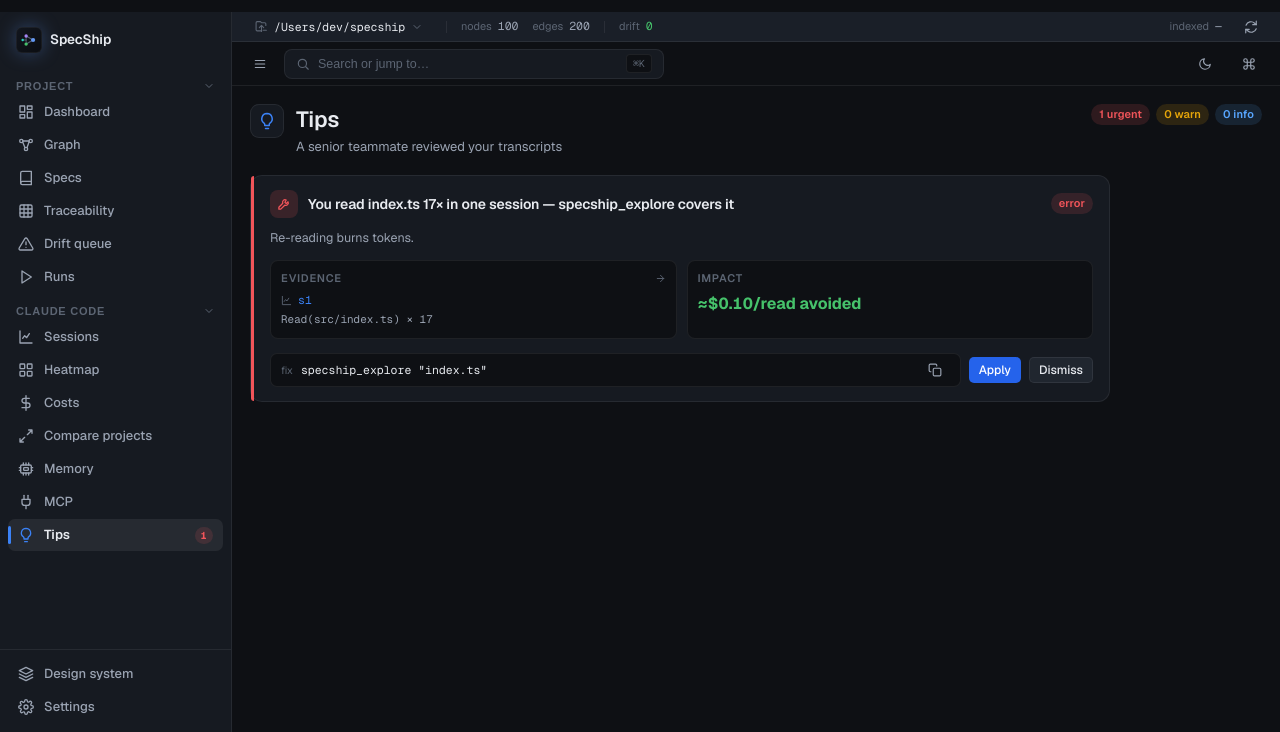
Test: TipsPage via App (REQ-DESKTOP-024) › A4: Dismiss POSTs the state, removes the card AND clears the sidebar badge
Check: the text "You read index.ts 17× in one session — specship_explore covers it" is shown, box [308,195,734,213]
Check: the text "1" is shown, box [194,526,213,544]
Step 1. Click the button "Dismiss" → (1061, 370), box [1029,357,1093,383]
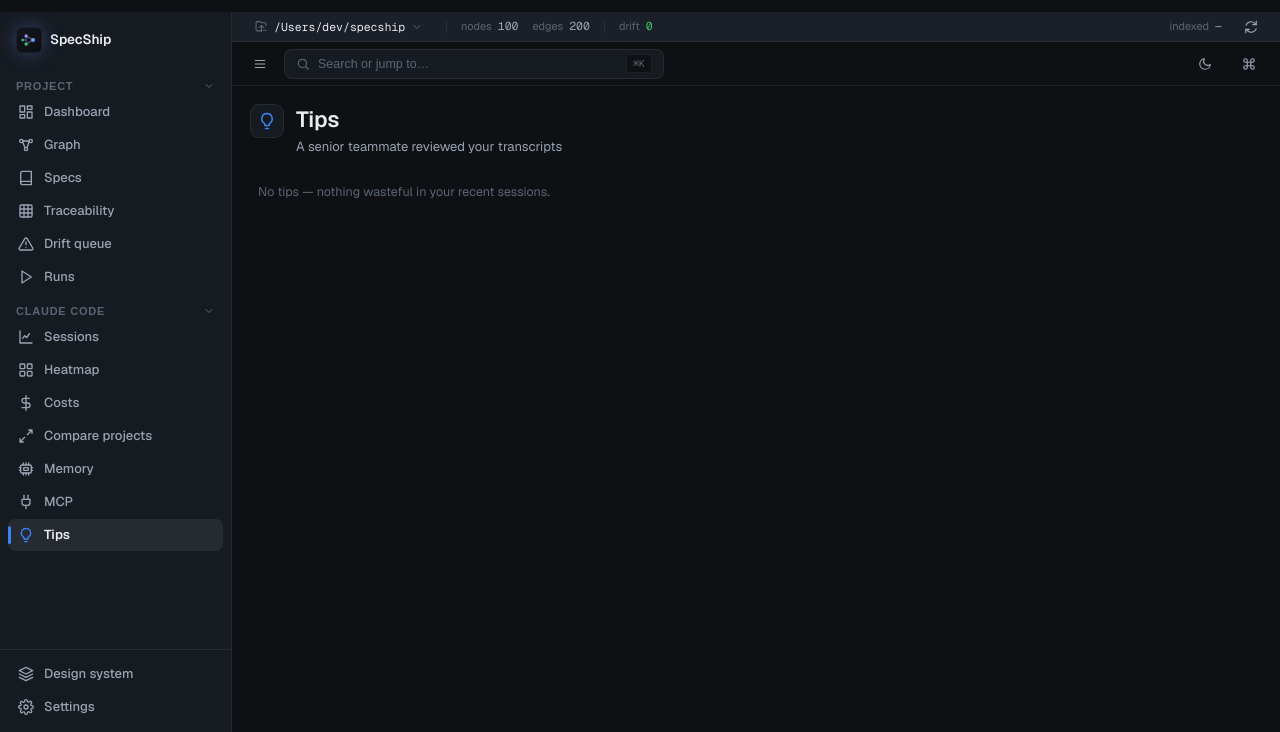
Check: the text "No tips — nothing wasteful in your recent sessions." is shown, box [258,183,550,200]
Check: the text "You read index.ts 17× in one session — specship_explore covers it" is gone
